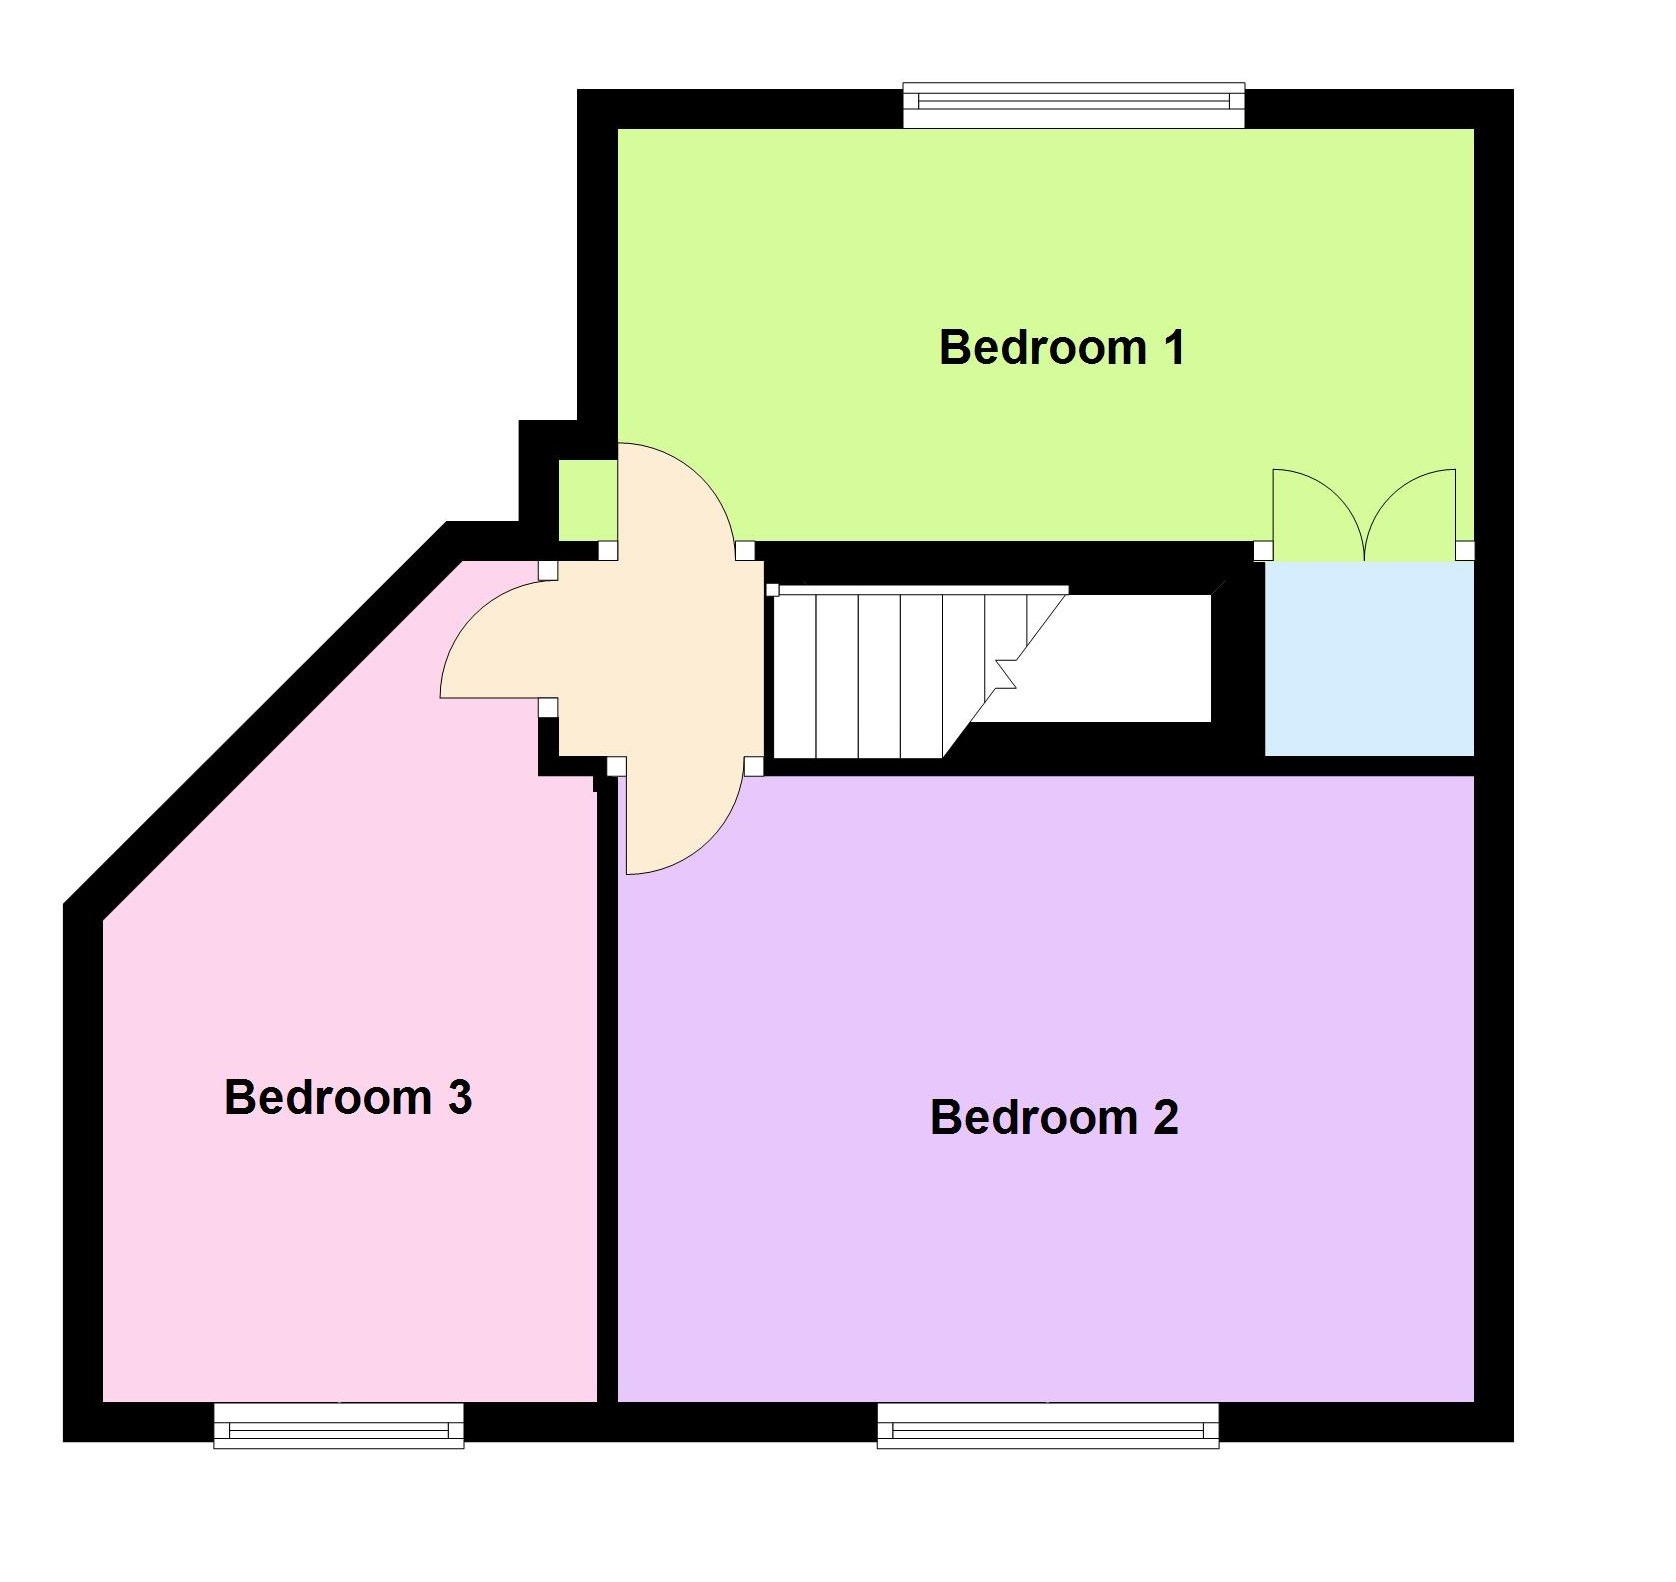wall: (1469, 85, 1518, 1436), (59, 895, 104, 1442), (758, 540, 1255, 584), (468, 1401, 880, 1447), (593, 773, 622, 1444), (576, 88, 614, 453), (584, 88, 903, 129), (1248, 85, 1514, 134), (1216, 1401, 1515, 1444), (1214, 537, 1263, 776), (764, 755, 1219, 776), (65, 1395, 219, 1447), (519, 419, 561, 556), (1258, 754, 1483, 776), (519, 416, 616, 451), (763, 581, 776, 758), (538, 755, 604, 778), (541, 711, 555, 773)
